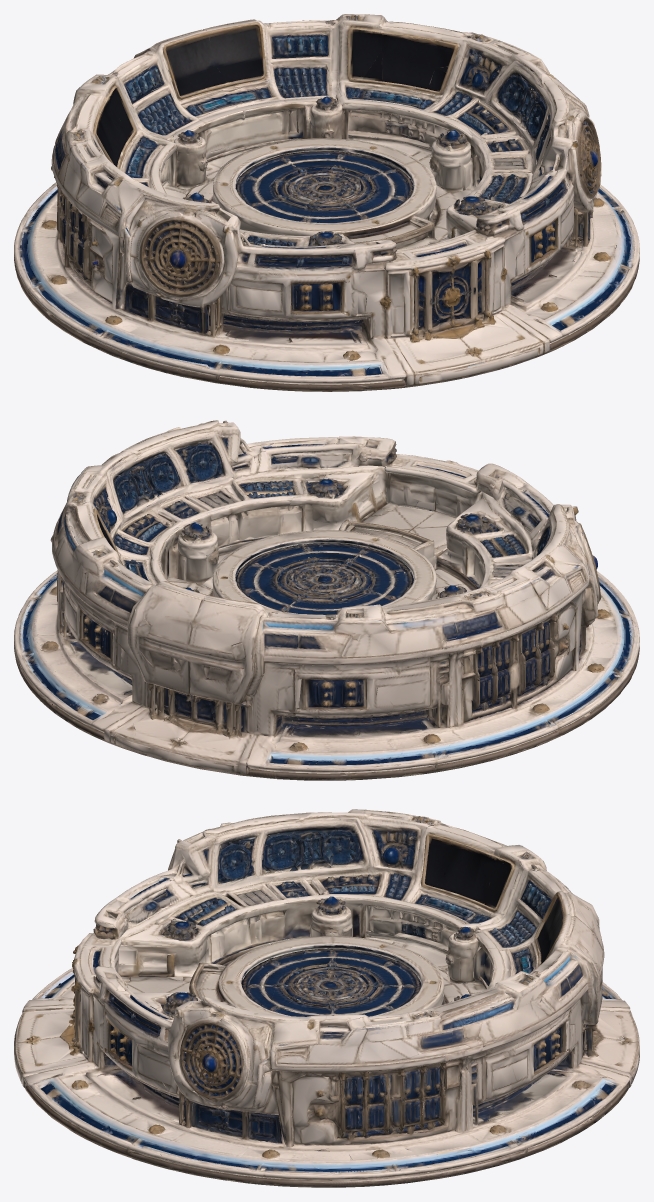
The model's file is console-model-candidate-02.glb.
3 renders of one model, top to bottom at view 1: azimuth 30°, elevation 25°; view 2: azimuth 150°, elevation 25°; view 3: azimuth 270°, elevation 25°, orthographic.
Visible parts, largest first — view 1: mesh_node; view 2: mesh_node; view 3: mesh_node.
Part boxes in pixels (bbox=[...]): mesh_node: bbox=[14, 14, 639, 391]; mesh_node: bbox=[14, 420, 639, 780]; mesh_node: bbox=[14, 809, 639, 1187].
Bounding box in the file's own units: 2 × 0.5001 × 2.
Materials: 1 (1 with a texture image).
